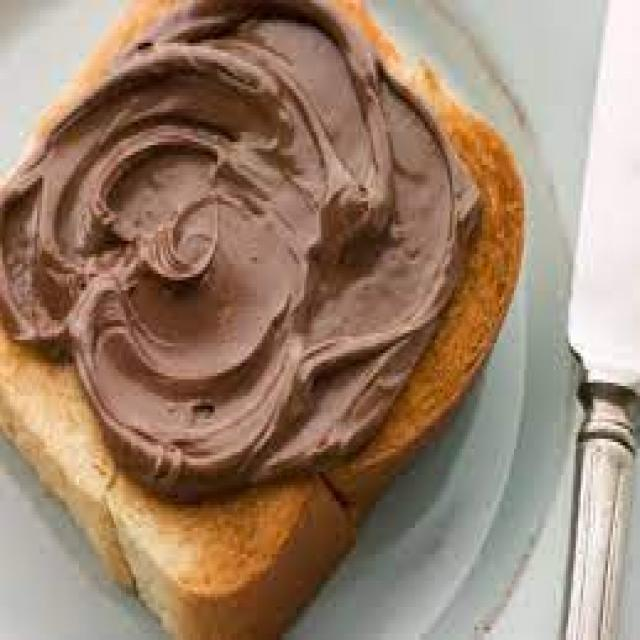Spread: (5, 7, 497, 492)
